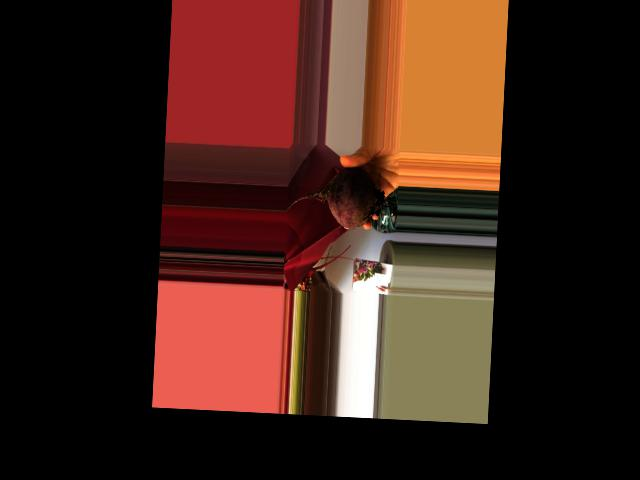beet: (285, 164, 399, 231)
